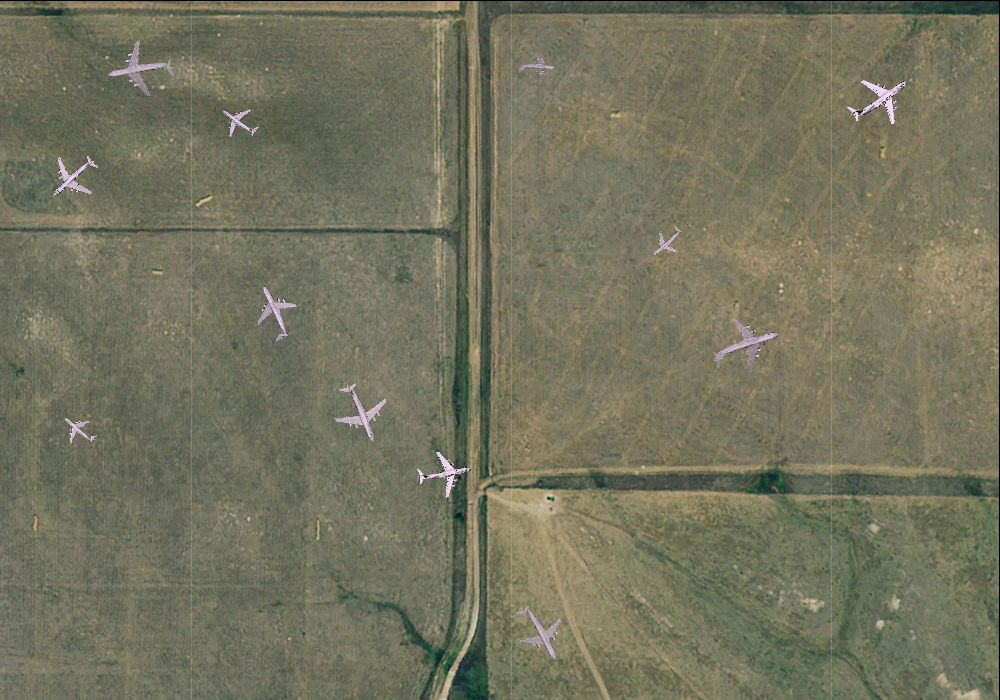plane: (835, 54, 923, 142), (703, 305, 788, 387), (500, 593, 578, 674), (321, 373, 399, 453), (101, 32, 179, 107), (36, 140, 110, 214), (238, 276, 308, 349), (412, 442, 475, 503), (211, 94, 266, 148), (641, 216, 691, 266), (54, 404, 103, 454), (517, 49, 556, 85)
